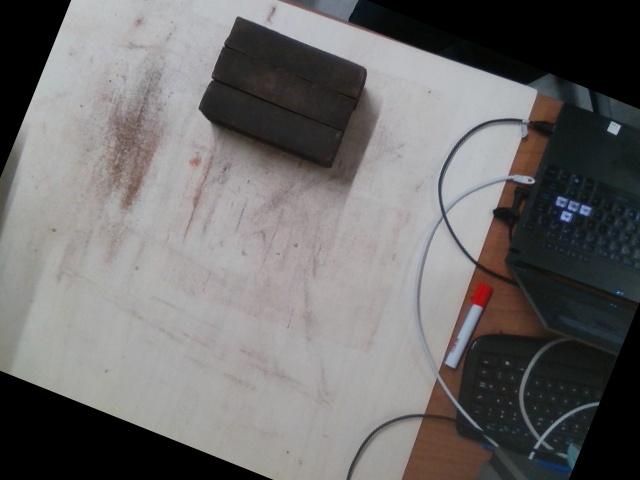brick-side: (203, 81, 340, 162), (227, 17, 364, 97), (215, 49, 352, 129)
